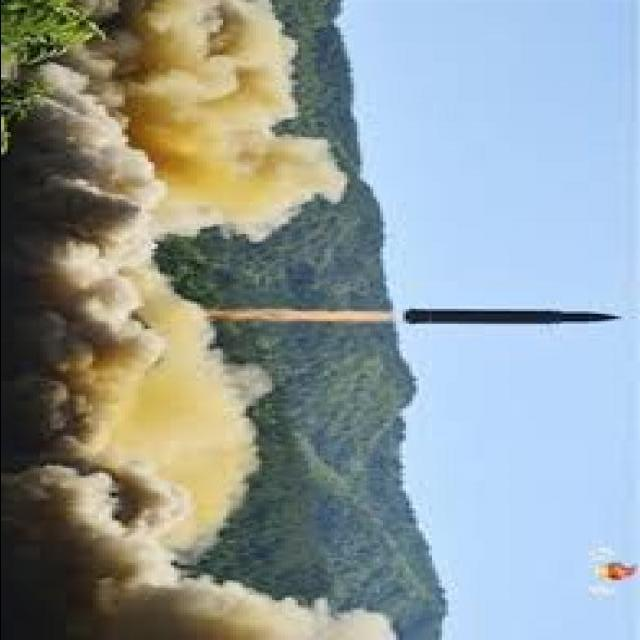Missile: (395, 305, 636, 330)
